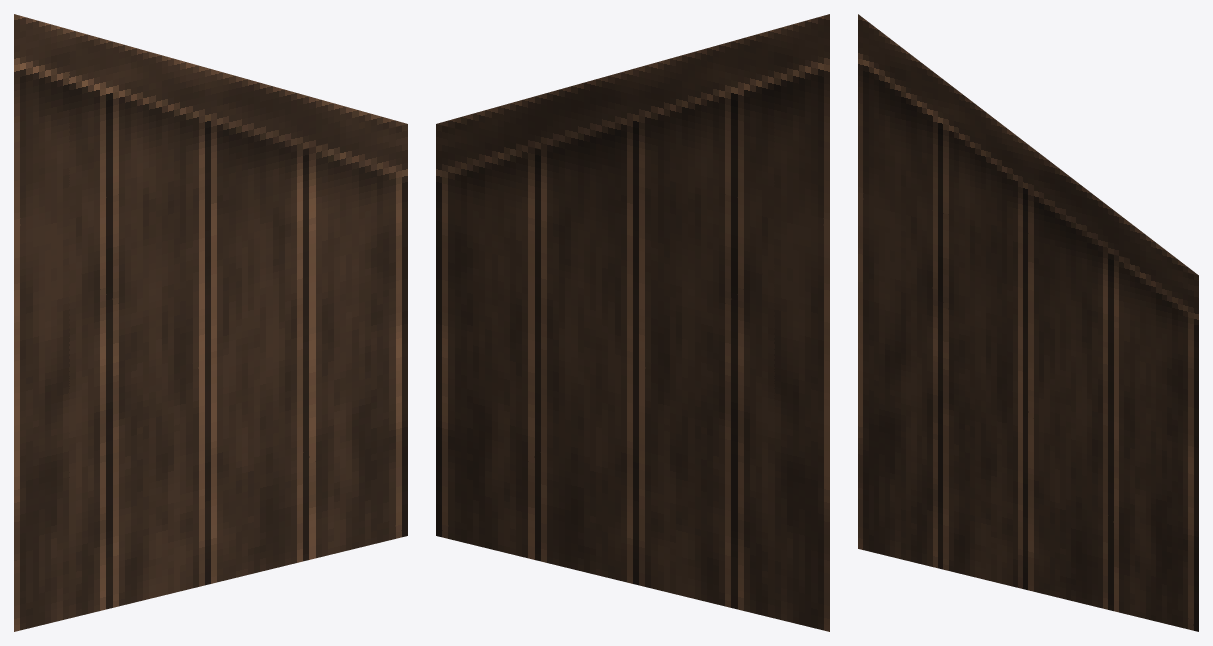
File: house_side_roof_2.glb
3 views of the same model, side by side, from view 1: azimuth 30°, elevation 25°; view 2: azimuth 150°, elevation 25°; view 3: azimuth 330°, elevation 25° (orthographic). The views are drawn at different scales.
Visible parts, largest first — view 1: house_side_roof_2; view 2: house_side_roof_2; view 3: house_side_roof_2.
Boxes of the visible parts, x1=… form: house_side_roof_2: x1=14, y1=14, x2=407, y2=631; house_side_roof_2: x1=436, y1=14, x2=829, y2=631; house_side_roof_2: x1=858, y1=14, x2=1198, y2=631.
Size of the model in its own units: 1 by 1.5 by 2.38e-07.
1 material, 1 textured.
